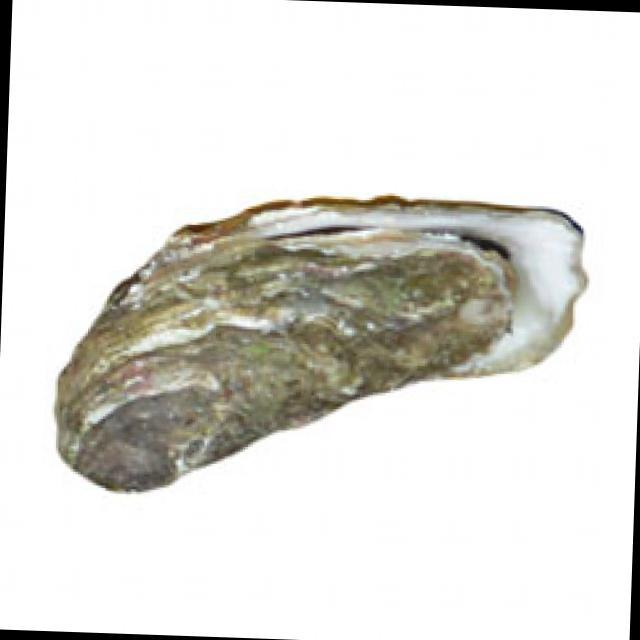Oyster- Indeterminate: (52, 196, 591, 495)
